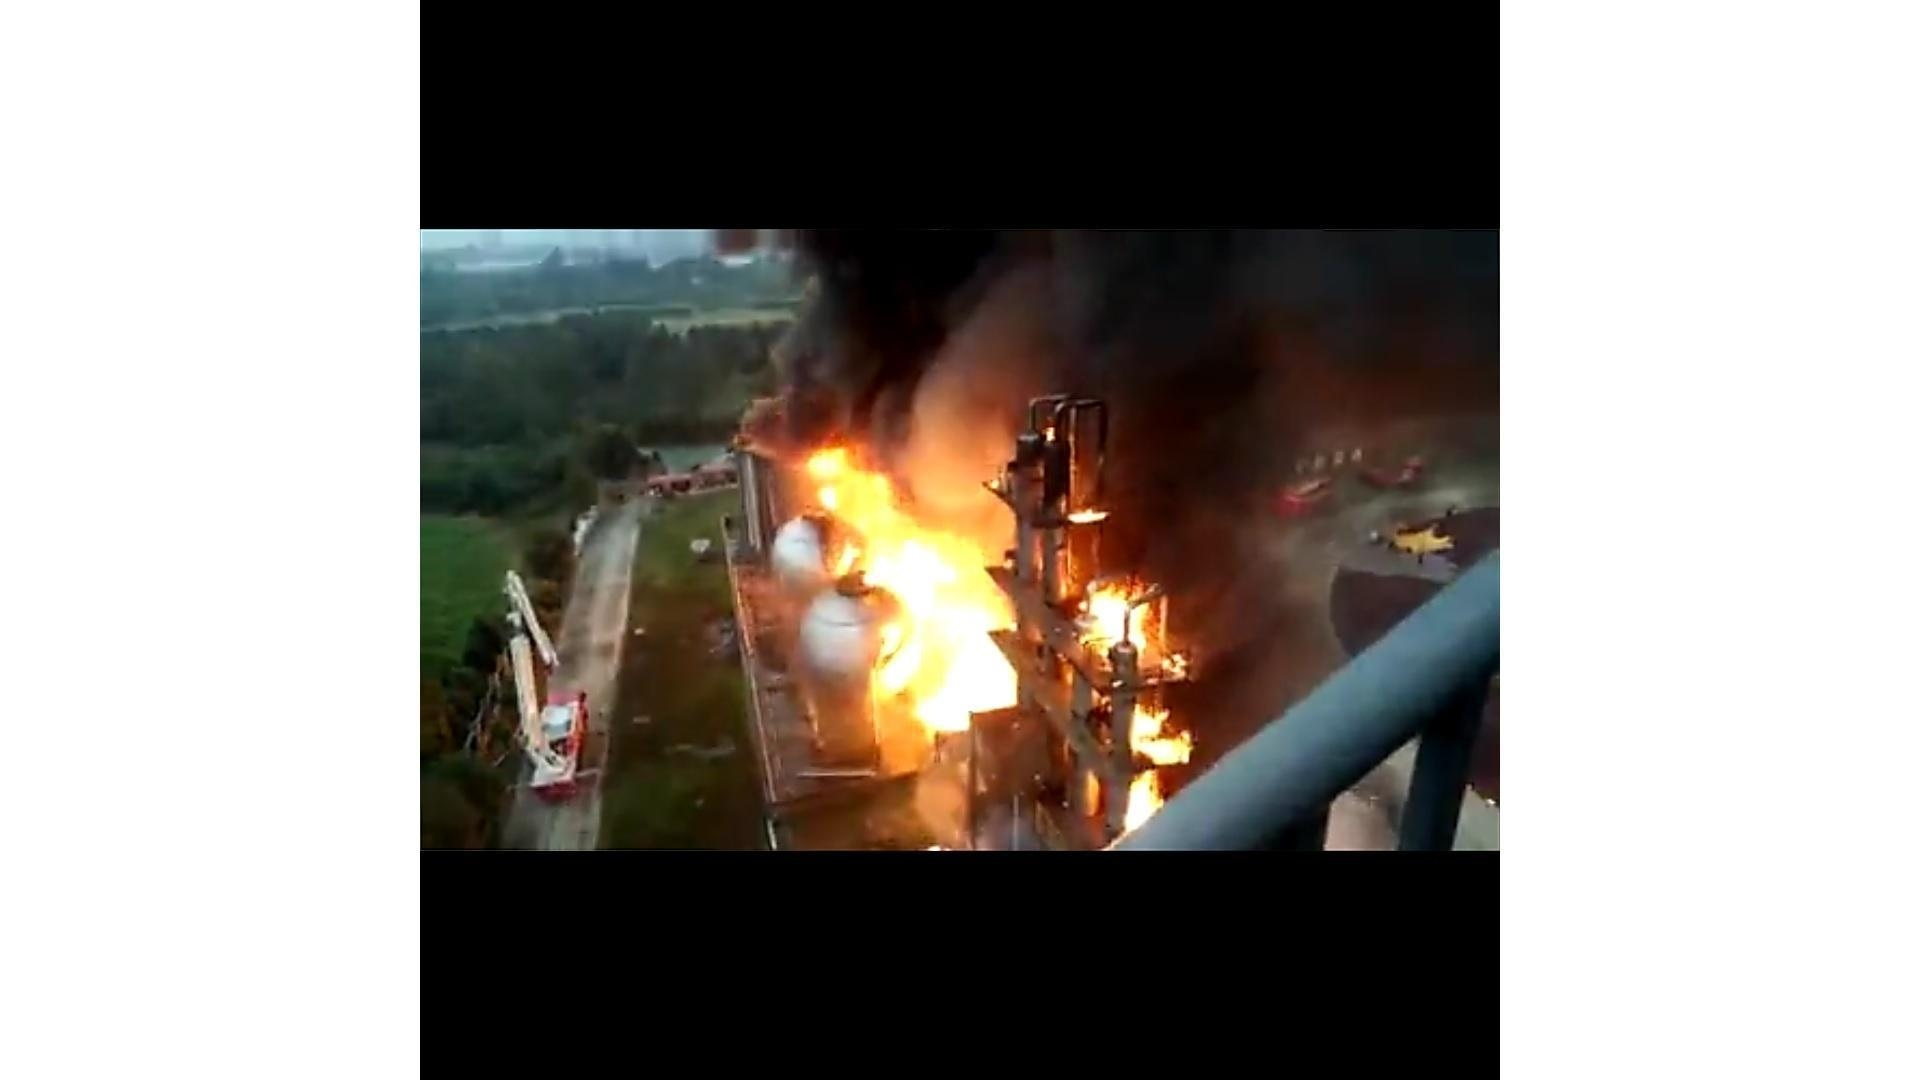fire: (810, 448, 1022, 721), (1083, 583, 1160, 651)
